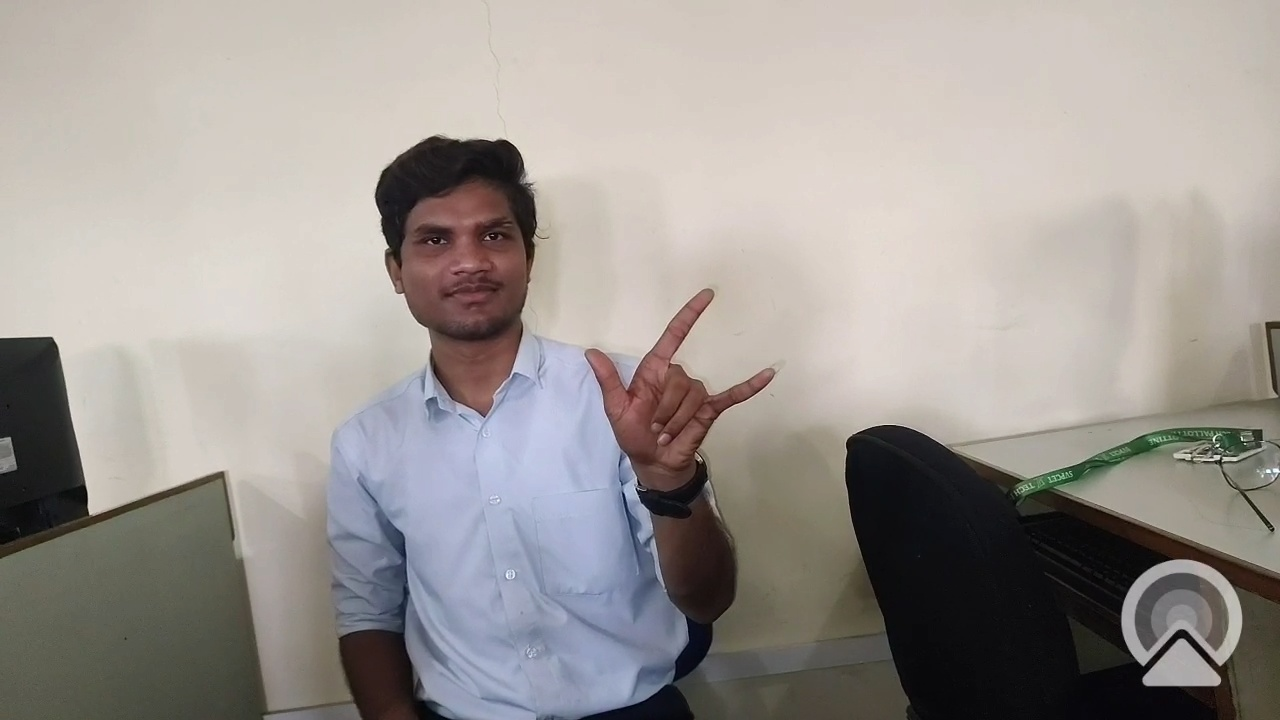I love you: (573, 266, 795, 496)
